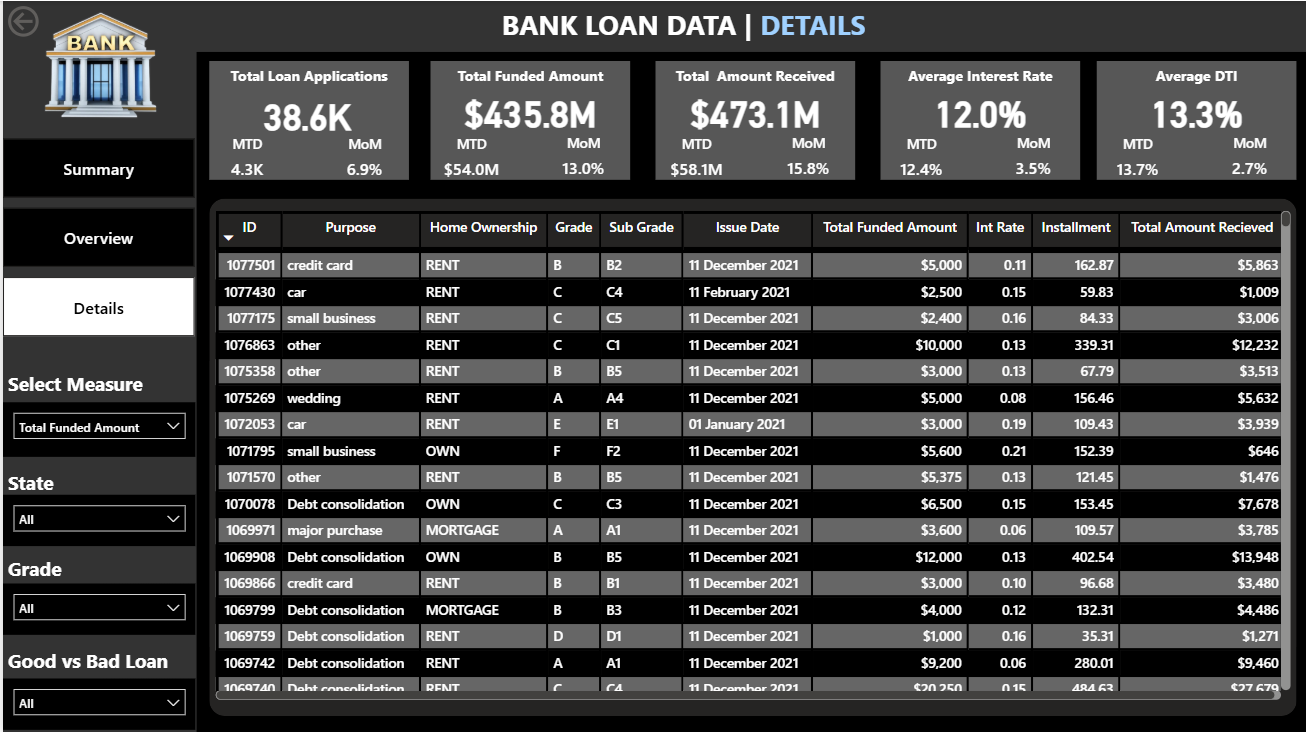

Layout of this report page (visuals, bound fields, positions):
{"tool":"powerbi","page":{"name":"Details","canvas":[1280,720],"ordinal":2},"visuals":[{"type":"shape","box":[0,49.4,190,671],"z":0},{"type":"shape","box":[0,0,1280,50],"z":1000},{"type":"textbox","box":[484.4,0,408.9,46.7],"z":2000},{"type":"shape","box":[202,58.9,196.2,116.6],"z":3000,"group":"g5"},{"type":"shape","box":[419.6,58.9,196.2,116.6],"z":3000,"group":"g6"},{"type":"shape","box":[640.5,58.9,196.2,116.6],"z":3000,"group":"g7"},{"type":"shape","box":[861.4,58.9,196.2,116.6],"z":3000,"group":"g8"},{"type":"shape","box":[1073.6,58.9,196.2,116.6],"z":3000,"group":"g9"},{"type":"shape","box":[202.5,193.9,1067.5,508],"z":3000},{"type":"group","id":"g1","title":"Group 1","box":[198.8,58.9,200,126.4],"z":4000},{"type":"card","fields":{"Values":["Bank_Loan_Data.Total Funded Amount"]},"box":[419.6,58.9,196.2,100.2],"z":4000,"group":"g6"},{"type":"card","fields":{"Values":["Bank_Loan_Data.Total Amount Recieved"]},"box":[640.5,58.9,196.2,100.2],"z":4000,"group":"g7"},{"type":"card","fields":{"Values":["Bank_Loan_Data.Avg Interest Rate"]},"box":[861.4,58.9,196.2,100.2],"z":4000,"group":"g8"},{"type":"card","fields":{"Values":["Bank_Loan_Data.AVG DTI"]},"box":[1073.6,58.9,196.2,100.2],"z":4000,"group":"g9"},{"type":"card","fields":{"Values":["Bank_Loan_Data.Total Loan Applications"]},"box":[198.8,86.6,200,49.1],"z":4000,"group":"g5"},{"type":"textbox","box":[202,58.9,196.2,35.7],"z":5000,"group":"g5"},{"type":"group","id":"g2","title":"Group 1","box":[419.6,58.9,196.3,126.4],"z":5000},{"type":"textbox","box":[419.6,58.9,196.2,35.7],"z":5000,"group":"g6"},{"type":"textbox","box":[640.5,58.9,196.2,35.7],"z":5000,"group":"g7"},{"type":"textbox","box":[861.4,58.9,196.2,35.7],"z":5000,"group":"g8"},{"type":"textbox","box":[1073.6,58.9,196.2,35.7],"z":5000,"group":"g9"},{"type":"group","id":"g3","title":"Group 1","box":[640.5,58.9,196.3,126.4],"z":6000},{"type":"card","title":"MTD","fields":{"Values":["Bank_Loan_Data.MTD Funded Amount"]},"box":[426.2,131.1,68.6,53.5],"z":6000,"group":"g6"},{"type":"card","title":"MTD","fields":{"Values":["Bank_Loan_Data.MTD Total Amount Received"]},"box":[647.1,131.1,68.6,53.5],"z":6000,"group":"g7"},{"type":"card","title":"MTD","fields":{"Values":["Bank_Loan_Data.MTD Avg Interest Rate"]},"box":[868,131.1,68.6,53.5],"z":6000,"group":"g8"},{"type":"card","title":"MTD","fields":{"Values":["Bank_Loan_Data.MTD Avg DTI"]},"box":[1080.2,131.1,68.6,53.5],"z":6000,"group":"g9"},{"type":"card","title":"MTD","fields":{"Values":["Bank_Loan_Data.MTD Loan Applications"]},"box":[211.6,131.6,57.6,53.5],"z":6000,"group":"g5"},{"type":"group","id":"g4","title":"Group 1","box":[861.4,58.9,196.3,126.4],"z":7000},{"type":"card","title":"MoM","fields":{"Values":["Bank_Loan_Data.MoM Total Funded Amount"]},"box":[541.6,129.7,57.6,53.5],"z":7000,"group":"g6"},{"type":"card","title":"MoM","fields":{"Values":["Bank_Loan_Data.MoM Total Amount Recieved"]},"box":[762.5,129.7,57.6,53.5],"z":7000,"group":"g7"},{"type":"card","title":"MoM","fields":{"Values":["Bank_Loan_Data.MoM Avg Interest Rate"]},"box":[983.4,129.7,57.6,53.5],"z":7000,"group":"g8"},{"type":"card","title":"MoM","fields":{"Values":["Bank_Loan_Data.MoM AVG DTI"]},"box":[1195.6,129.7,57.6,53.5],"z":7000,"group":"g9"},{"type":"card","title":"MoM","fields":{"Values":["Bank_Loan_Data.MoM Loan Application"]},"box":[326.9,131.6,57.6,53.5],"z":7000,"group":"g5"},{"type":"actionButton","box":[0,0,100,40],"z":8000},{"type":"group","id":"g5","title":"Group 2","box":[198.8,58.9,200,126.2],"z":8001,"group":"g1"},{"type":"group","id":"g6","title":"Group 2","box":[419.6,58.9,196.2,125.7],"z":8001,"group":"g2"},{"type":"group","id":"g7","title":"Group 2","box":[640.5,58.9,196.2,125.7],"z":8001,"group":"g3"},{"type":"group","id":"g8","title":"Group 2","box":[861.4,58.9,196.2,125.7],"z":8001,"group":"g4"},{"type":"group","id":"g9","title":"Group 2","box":[1073.6,58.9,196.2,125.7],"z":8001,"group":"g10"},{"type":"group","id":"g10","title":"Group 1","box":[1073.6,58.9,195.1,126.4],"z":9000},{"type":"slicer","fields":{"Values":["Bank_Loan_Data.address_state"]},"box":[0,484.7,189,50.3],"z":10000},{"type":"textbox","box":[0,455.2,189,35.6],"z":11000},{"type":"slicer","fields":{"Values":["Bank_Loan_Data.grade"]},"box":[0,571.8,189,50.3],"z":12000},{"type":"textbox","box":[0,539.9,189,35.6],"z":13000},{"type":"slicer","fields":{"Values":["Bank_Loan_Data.Good Vs Bad Loans"]},"box":[0,665,189,50.3],"z":14000},{"type":"textbox","box":[0,629.5,189,35.6],"z":15000},{"type":"slicer","fields":{"Values":["Select Measure.Select Measure"]},"box":[0,393.9,189,54],"z":16000},{"type":"textbox","box":[0,358.3,189,35.6],"z":17000},{"type":"tableEx","fields":{"Values":["Bank_Loan_Data.id","Bank_Loan_Data.purpose","Bank_Loan_Data.home_ownership","Bank_Loan_Data.grade","Bank_Loan_Data.sub_grade","Bank_Loan_Data.issue_date","Bank_Loan_Data.Total Funded Amount","Sum(Bank_Loan_Data.int_rate)","Sum(Bank_Loan_Data.installment)","Bank_Loan_Data.Total Amount Recieved"]},"box":[202.5,201.2,1066.3,489.6],"z":18000},{"type":"pageNavigator","box":[0,135,189,196.3],"z":19000},{"type":"image","box":[0,0,189,131.3],"z":19001}]}

Visuals, with their boxes in screenshot pixels (x1, y1, x2, y2), scaled from the page's 1280x720 canvas onto the 1306x732 screenshot:
shape: left=0, top=50, right=194, bottom=731
shape: left=0, top=0, right=1305, bottom=51
textbox: left=494, top=0, right=911, bottom=47
shape: left=206, top=60, right=406, bottom=178
shape: left=428, top=60, right=628, bottom=178
shape: left=654, top=60, right=854, bottom=178
shape: left=879, top=60, right=1079, bottom=178
shape: left=1095, top=60, right=1296, bottom=178
shape: left=207, top=197, right=1296, bottom=714
"Group 1" group: left=203, top=60, right=407, bottom=188
card - Bank_Loan_Data.Total Funded Amount: left=428, top=60, right=628, bottom=162
card - Bank_Loan_Data.Total Amount Recieved: left=654, top=60, right=854, bottom=162
card - Bank_Loan_Data.Avg Interest Rate: left=879, top=60, right=1079, bottom=162
card - Bank_Loan_Data.AVG DTI: left=1095, top=60, right=1296, bottom=162
card - Bank_Loan_Data.Total Loan Applications: left=203, top=88, right=407, bottom=138
textbox: left=206, top=60, right=406, bottom=96
"Group 1" group: left=428, top=60, right=628, bottom=188
textbox: left=428, top=60, right=628, bottom=96
textbox: left=654, top=60, right=854, bottom=96
textbox: left=879, top=60, right=1079, bottom=96
textbox: left=1095, top=60, right=1296, bottom=96
"Group 1" group: left=654, top=60, right=854, bottom=188
"MTD" card: left=435, top=133, right=505, bottom=188
"MTD" card: left=660, top=133, right=730, bottom=188
"MTD" card: left=886, top=133, right=956, bottom=188
"MTD" card: left=1102, top=133, right=1172, bottom=188
"MTD" card: left=216, top=134, right=275, bottom=188
"Group 1" group: left=879, top=60, right=1079, bottom=188
"MoM" card: left=553, top=132, right=611, bottom=186
"MoM" card: left=778, top=132, right=837, bottom=186
"MoM" card: left=1003, top=132, right=1062, bottom=186
"MoM" card: left=1220, top=132, right=1279, bottom=186
"MoM" card: left=334, top=134, right=392, bottom=188
actionButton: left=0, top=0, right=102, bottom=41
"Group 2" group: left=203, top=60, right=407, bottom=188
"Group 2" group: left=428, top=60, right=628, bottom=188
"Group 2" group: left=654, top=60, right=854, bottom=188
"Group 2" group: left=879, top=60, right=1079, bottom=188
"Group 2" group: left=1095, top=60, right=1296, bottom=188
"Group 1" group: left=1095, top=60, right=1294, bottom=188
slicer - Bank_Loan_Data.address_state: left=0, top=493, right=193, bottom=544
textbox: left=0, top=463, right=193, bottom=499
slicer - Bank_Loan_Data.grade: left=0, top=581, right=193, bottom=632
textbox: left=0, top=549, right=193, bottom=585
slicer - Bank_Loan_Data.Good Vs Bad Loans: left=0, top=676, right=193, bottom=727
textbox: left=0, top=640, right=193, bottom=676
slicer - Select Measure.Select Measure: left=0, top=400, right=193, bottom=455
textbox: left=0, top=364, right=193, bottom=400
tableEx - Bank_Loan_Data.id x Bank_Loan_Data.purpose: left=207, top=205, right=1295, bottom=702
pageNavigator: left=0, top=137, right=193, bottom=337
image: left=0, top=0, right=193, bottom=133
